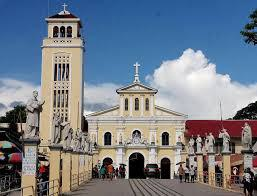manaoag_church_manaoag_pangasinan: (38, 1, 187, 180)
